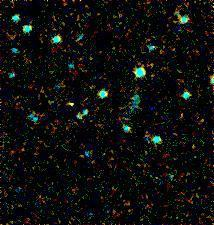star: (53, 85, 83, 115)
